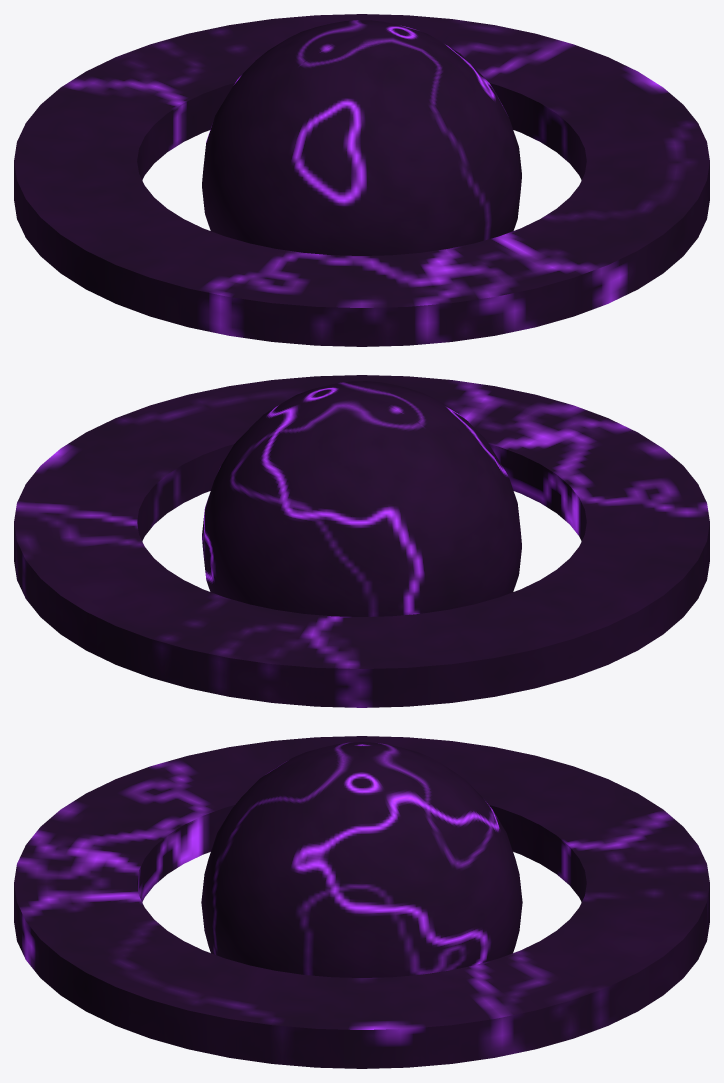
File: item-6-9.glb
3 renders of one model, top to bottom at view 1: azimuth 30°, elevation 25°; view 2: azimuth 150°, elevation 25°; view 3: azimuth 270°, elevation 25°, orthographic.
Visible parts, largest first — view 1: plat, planet; view 2: plat, planet; view 3: plat, planet.
Part boxes in pixels (left/top/right/bottom): plat: left=14, top=14, right=709, bottom=346; planet: left=202, top=20, right=521, bottom=255; plat: left=14, top=375, right=709, bottom=707; planet: left=202, top=381, right=521, bottom=616; plat: left=14, top=736, right=709, bottom=1068; planet: left=201, top=742, right=522, bottom=977.
Bounding box in the file's own units: 1.3 × 0.6 × 1.3.
Materials: 2 (2 with a texture image).
